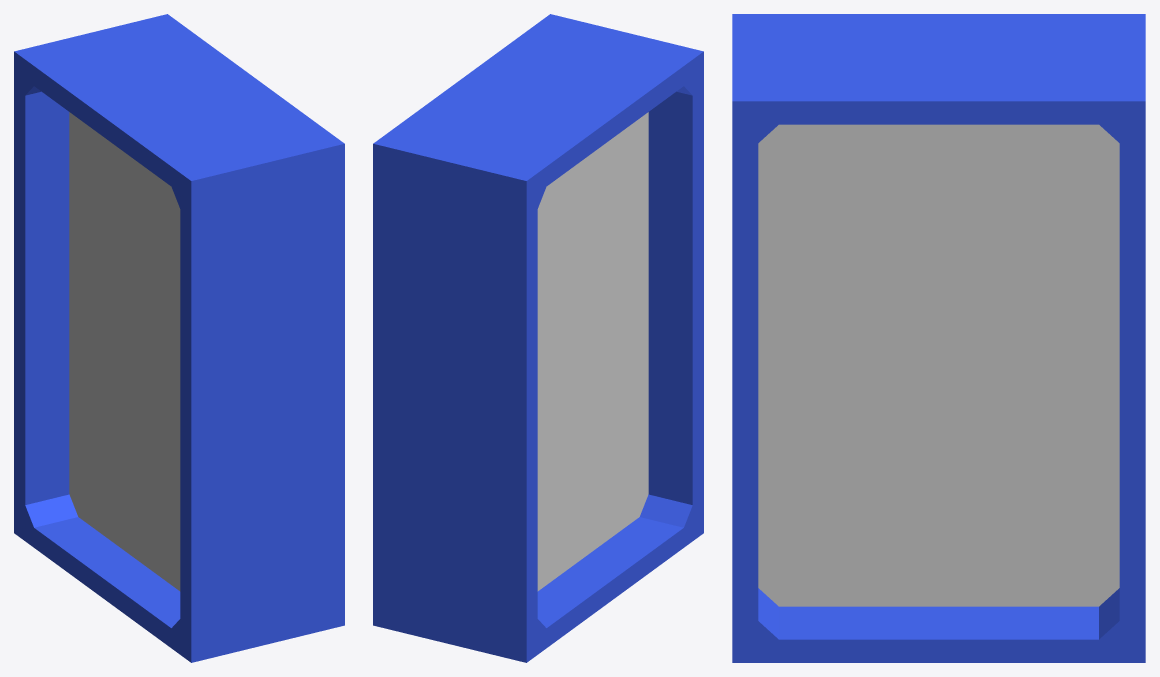
The model's file is DoorFrame_A[asset].fbx.
3 renders of one model, left to right at view 1: azimuth 30°, elevation 25°; view 2: azimuth 150°, elevation 25°; view 3: azimuth 270°, elevation 25°, orthographic. The views are drawn at different scales.
Visible parts, largest first — view 1: 4.DoorFrame_A, 3.Door_B; view 2: 4.DoorFrame_A, 3.Door_B; view 3: 3.Door_B, 4.DoorFrame_A.
Boxes of the visible parts, x1,y1,x2,y2 form: 4.DoorFrame_A: [14, 14, 344, 662]; 3.Door_B: [69, 112, 180, 591]; 4.DoorFrame_A: [373, 14, 703, 662]; 3.Door_B: [537, 112, 648, 591]; 3.Door_B: [758, 124, 1119, 606]; 4.DoorFrame_A: [732, 14, 1145, 662].
Bounding box in the file's own units: 1 × 3 × 2.
